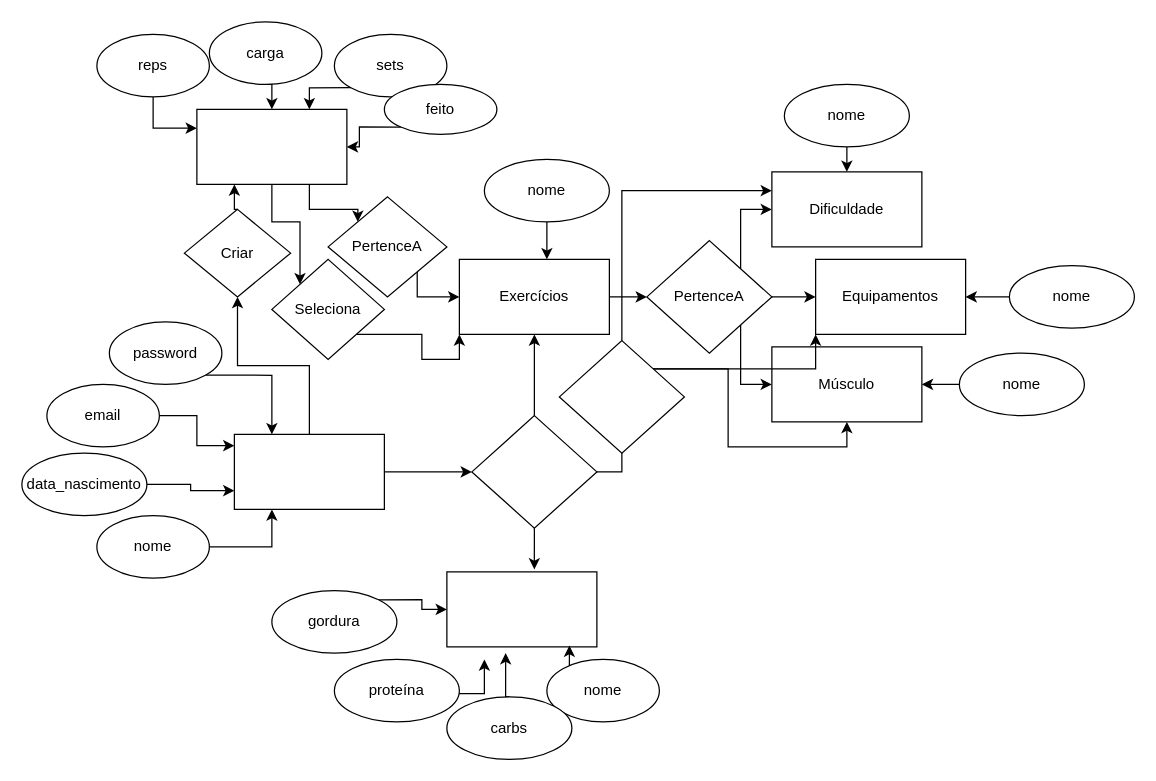
Image size: 1156x781. Some labels were removed from this diagram. The box of each missing label's shape, as (x1, y1, x2, y2) in pixels:
Alimentos: (446, 571, 597, 647)
Filtrar: (558, 339, 684, 453)
Pesquisa: (471, 414, 597, 528)
Treino: (196, 108, 347, 184)
Utilizadores: (233, 433, 384, 509)
